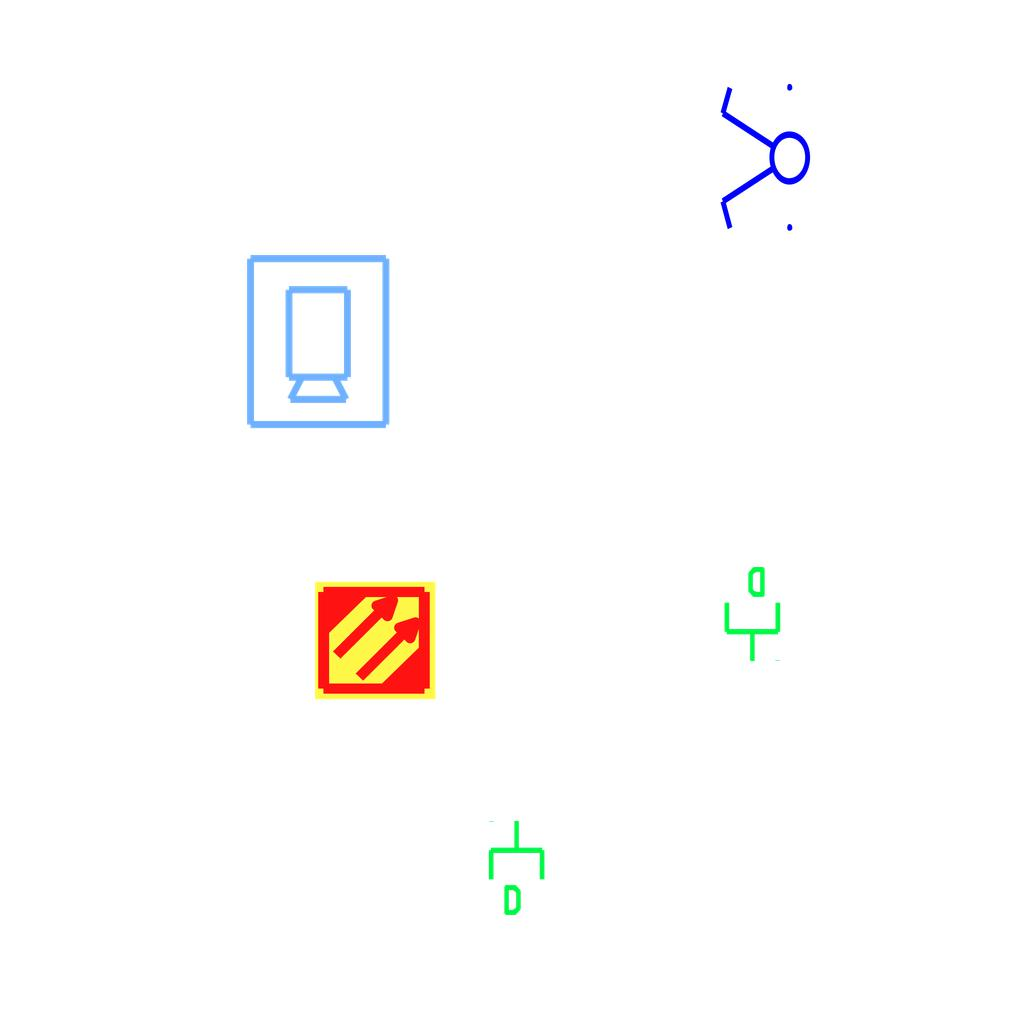ASR_Ansaugrauchmelder: (313, 578, 438, 703)
Datenanschluss_einfach: (716, 564, 785, 664), (484, 818, 553, 918)
KFO_Kamera_mit_Festobjektiv: (240, 250, 394, 432)
Serienschalter: (716, 75, 812, 243)
